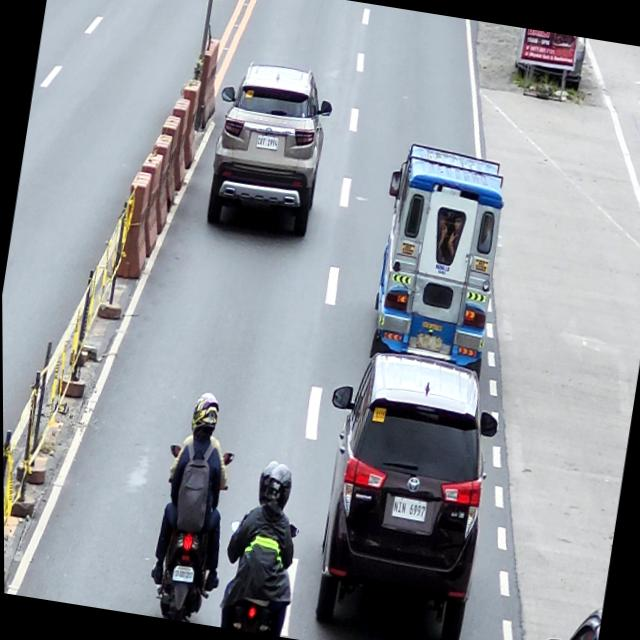Car: (295, 346, 507, 640), (199, 58, 338, 243)
Jeep: (361, 140, 513, 384)
License-Plate: (390, 496, 427, 522), (415, 332, 443, 354), (170, 564, 194, 584), (256, 134, 279, 152)
Motorcycle: (143, 442, 236, 626), (214, 518, 300, 638)
